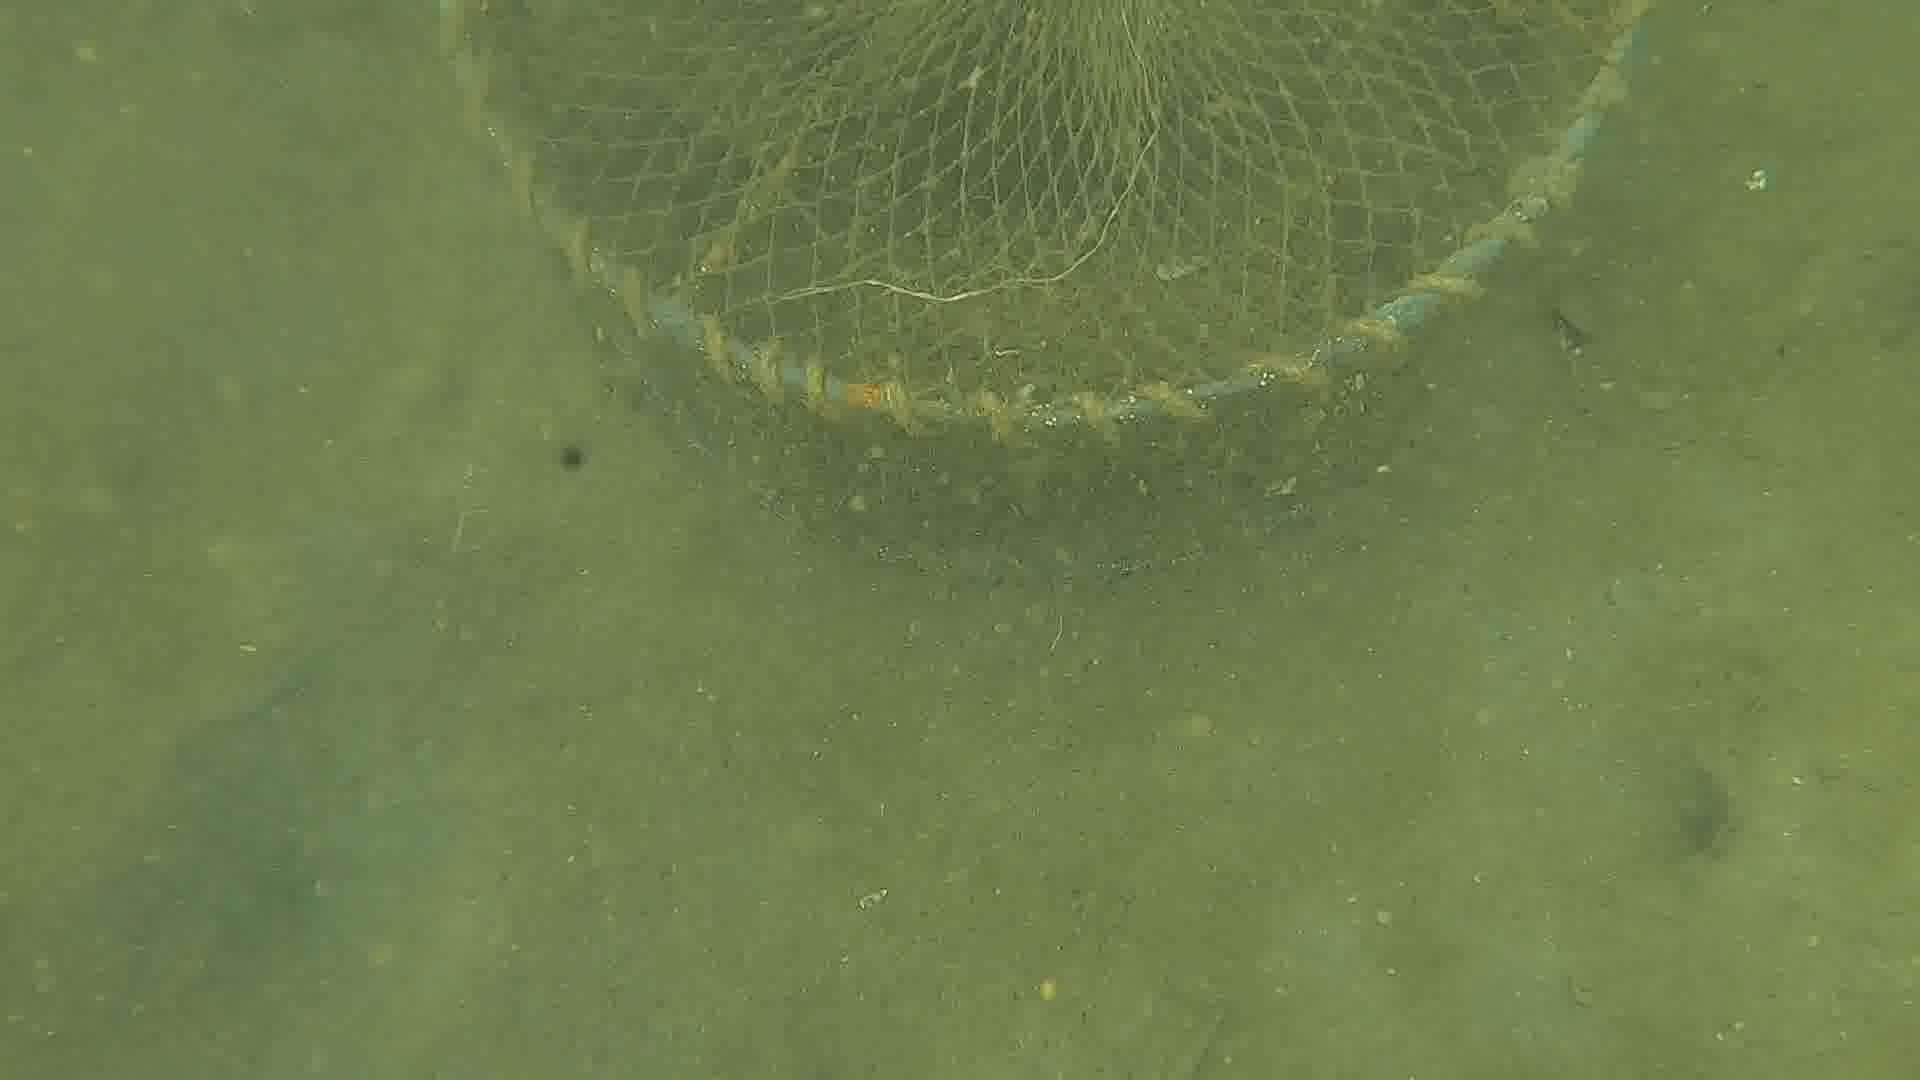circular fish trap: (435, 3, 1650, 574)
